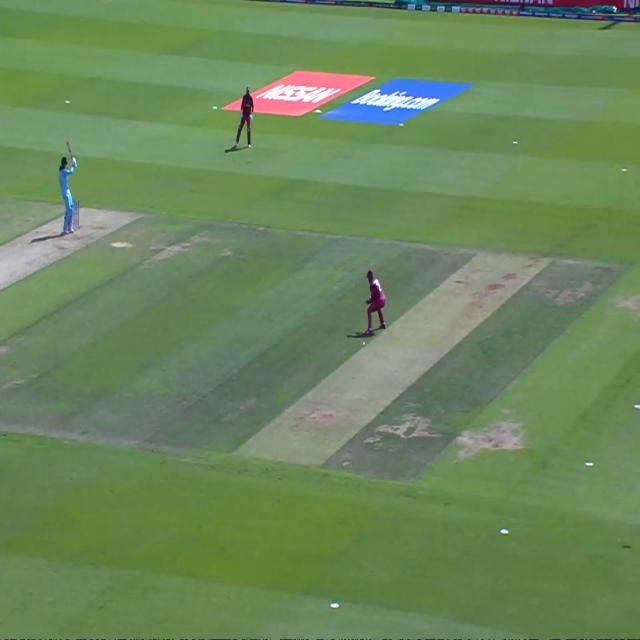ball: (360, 336, 369, 350)
